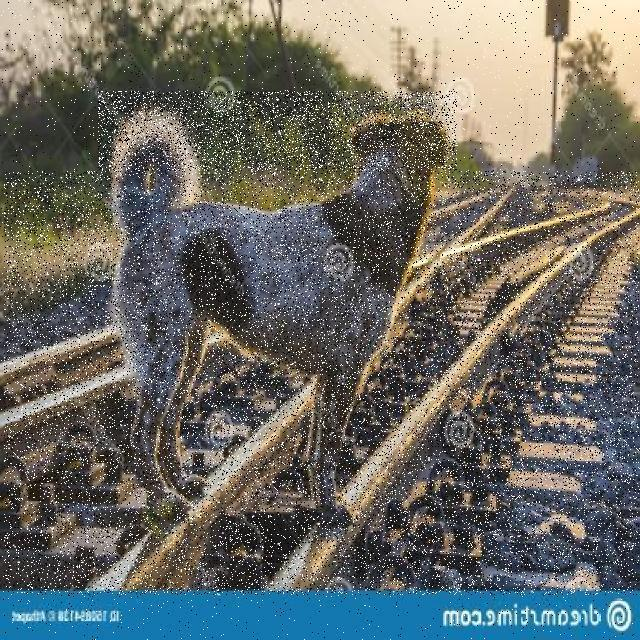danger: (98, 92, 457, 538)
rail: (4, 171, 639, 595)
